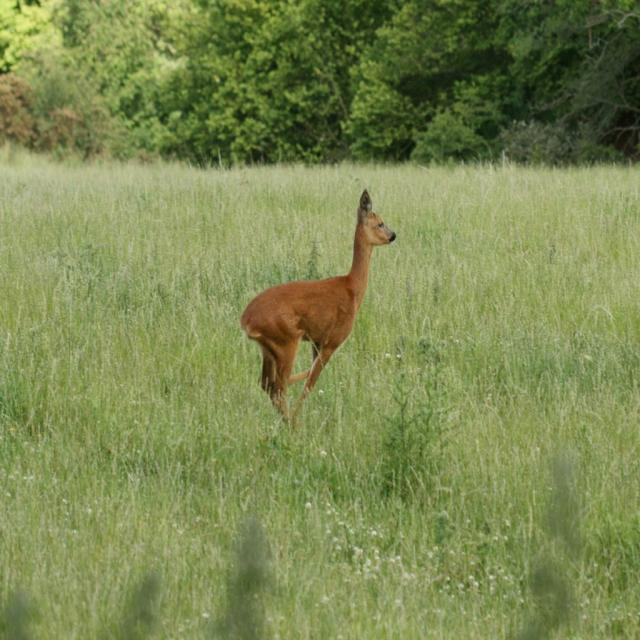Deer: (238, 186, 396, 432)
